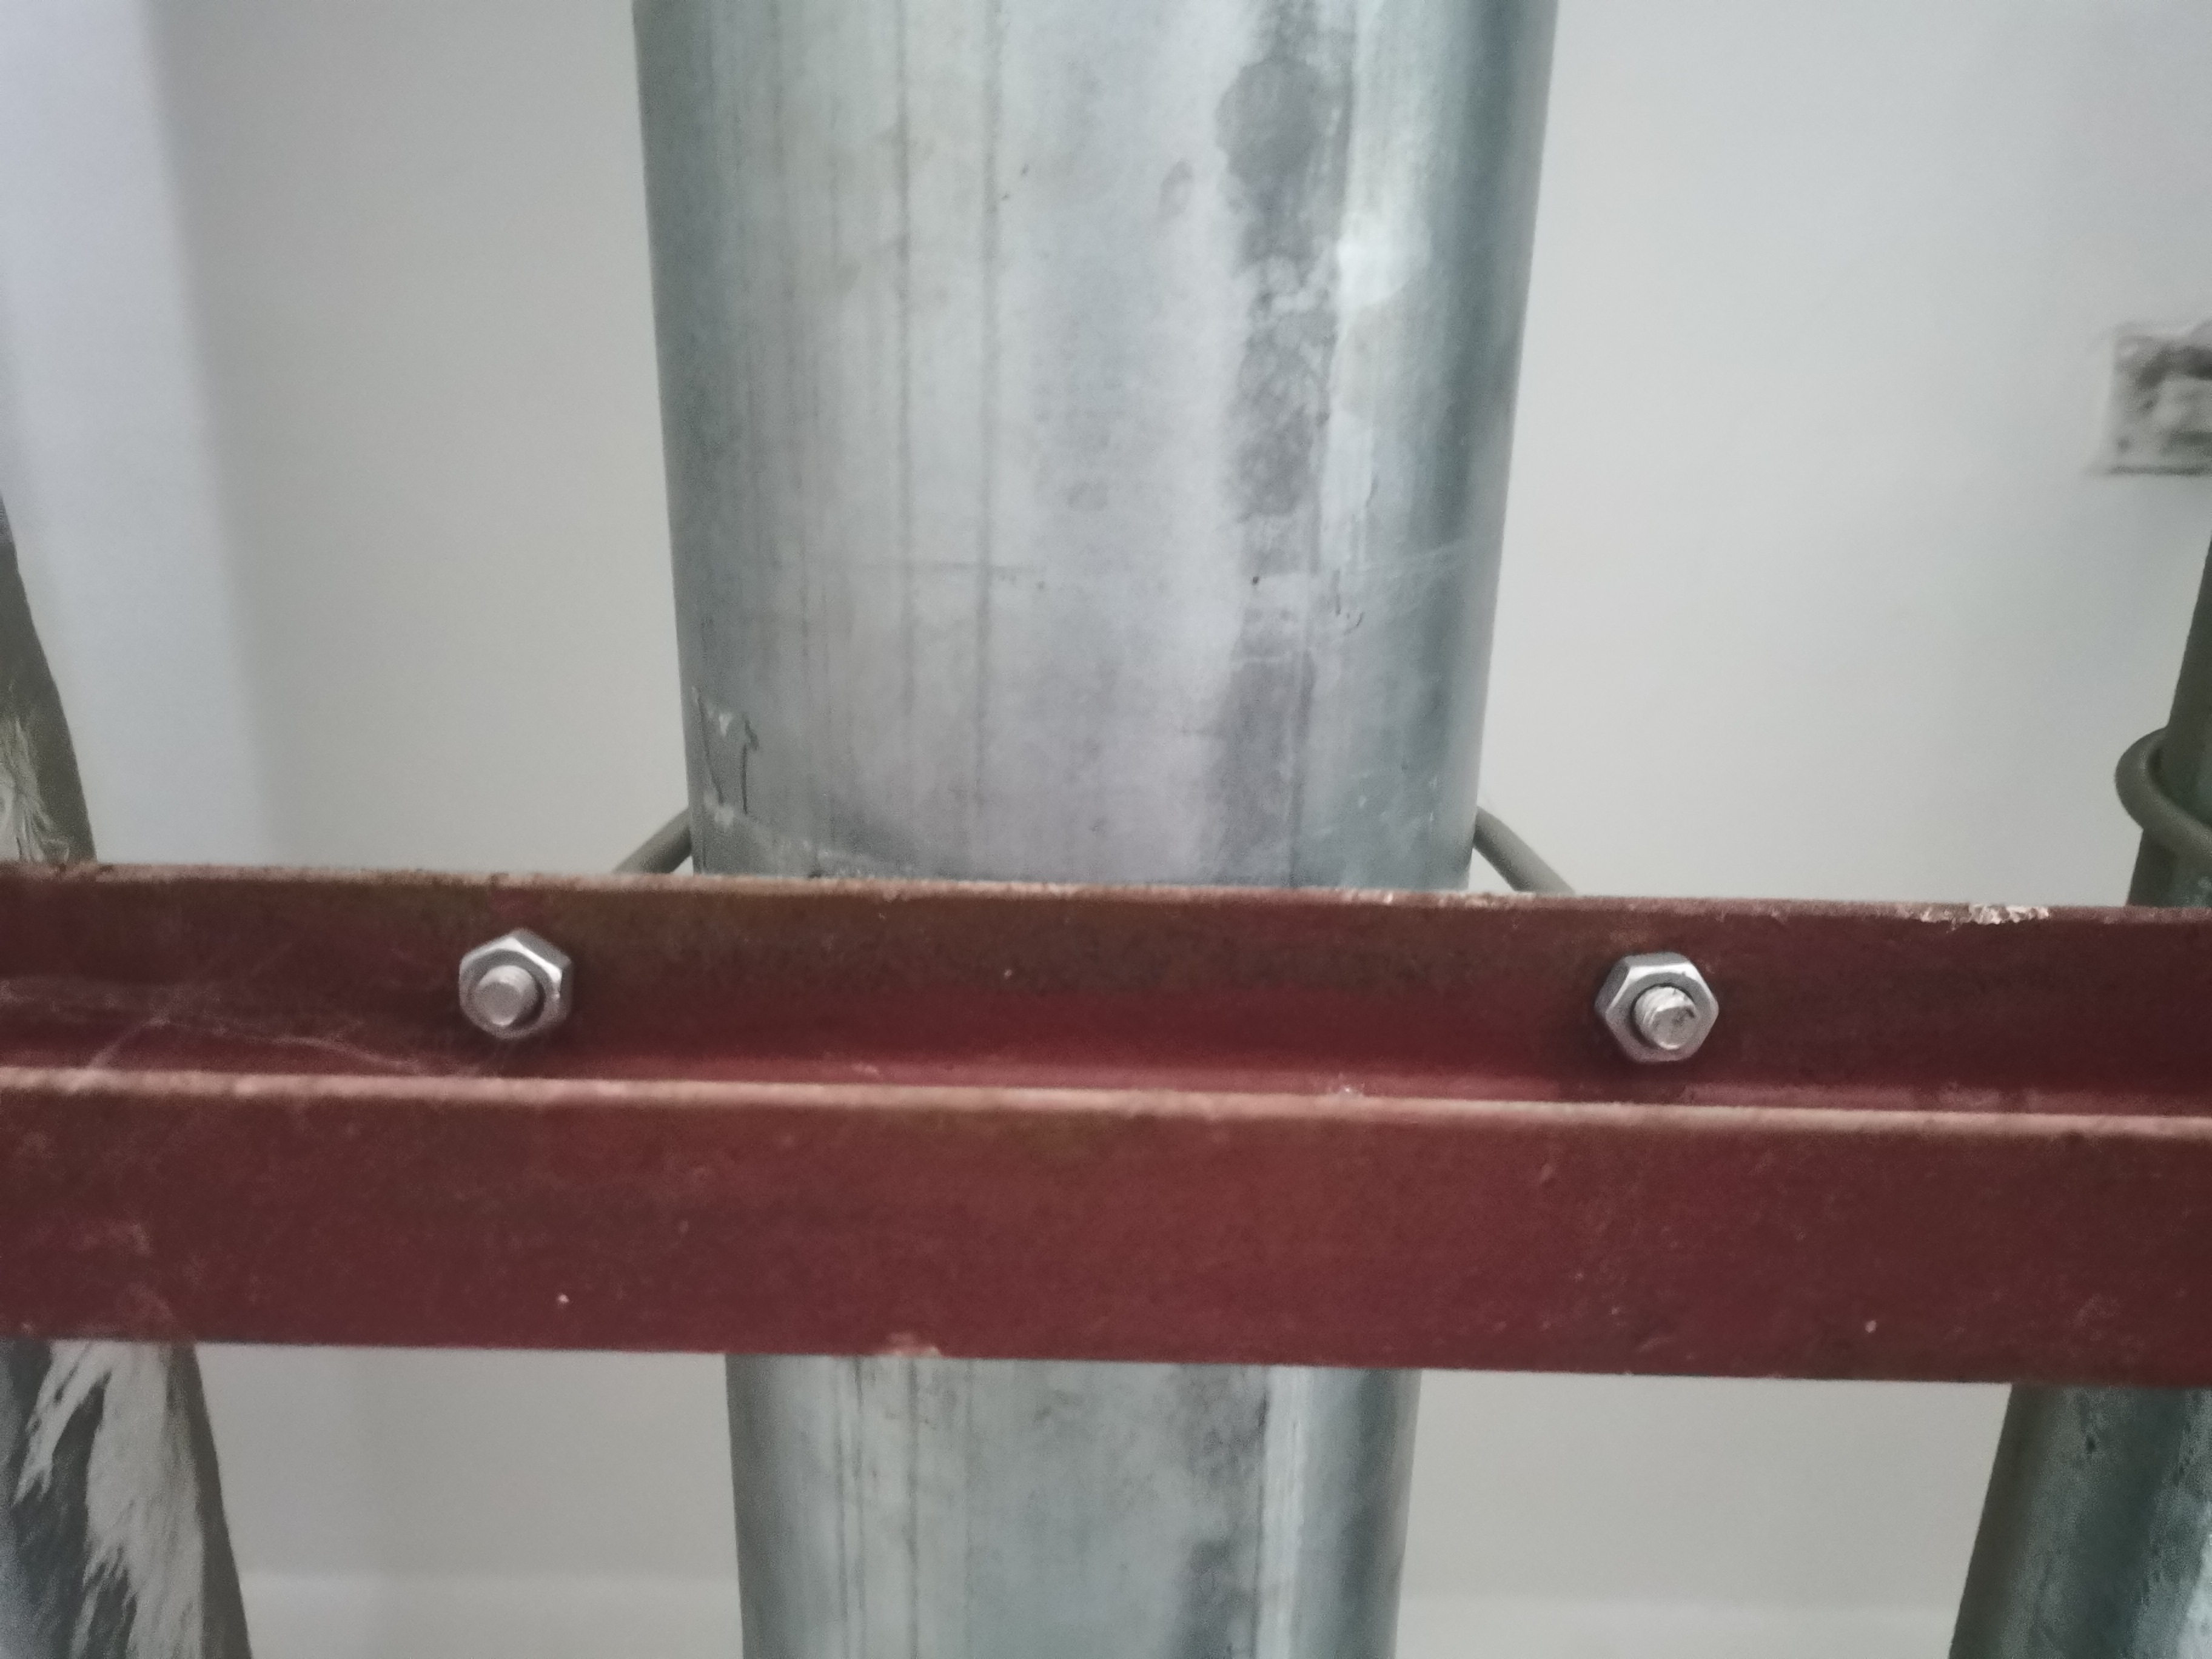bolt_b: (1587, 945, 1728, 1068), (453, 922, 582, 1049)
